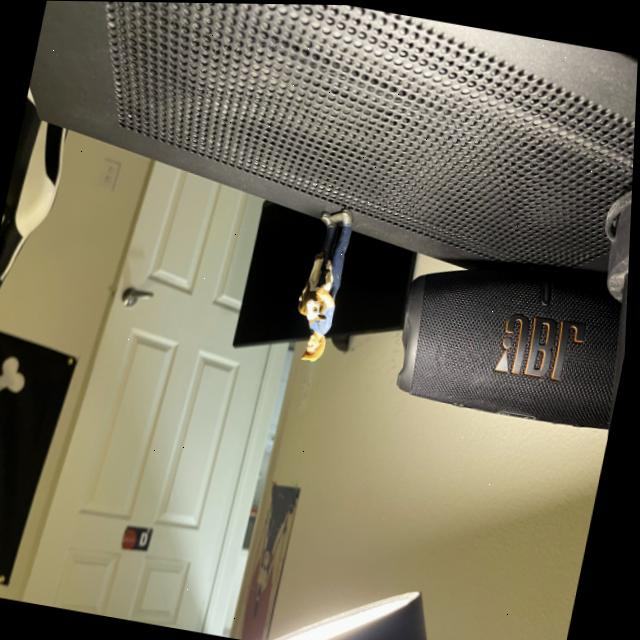cow: (299, 288, 326, 322), (306, 256, 326, 290)
person: (304, 301, 338, 363), (318, 306, 321, 310)
